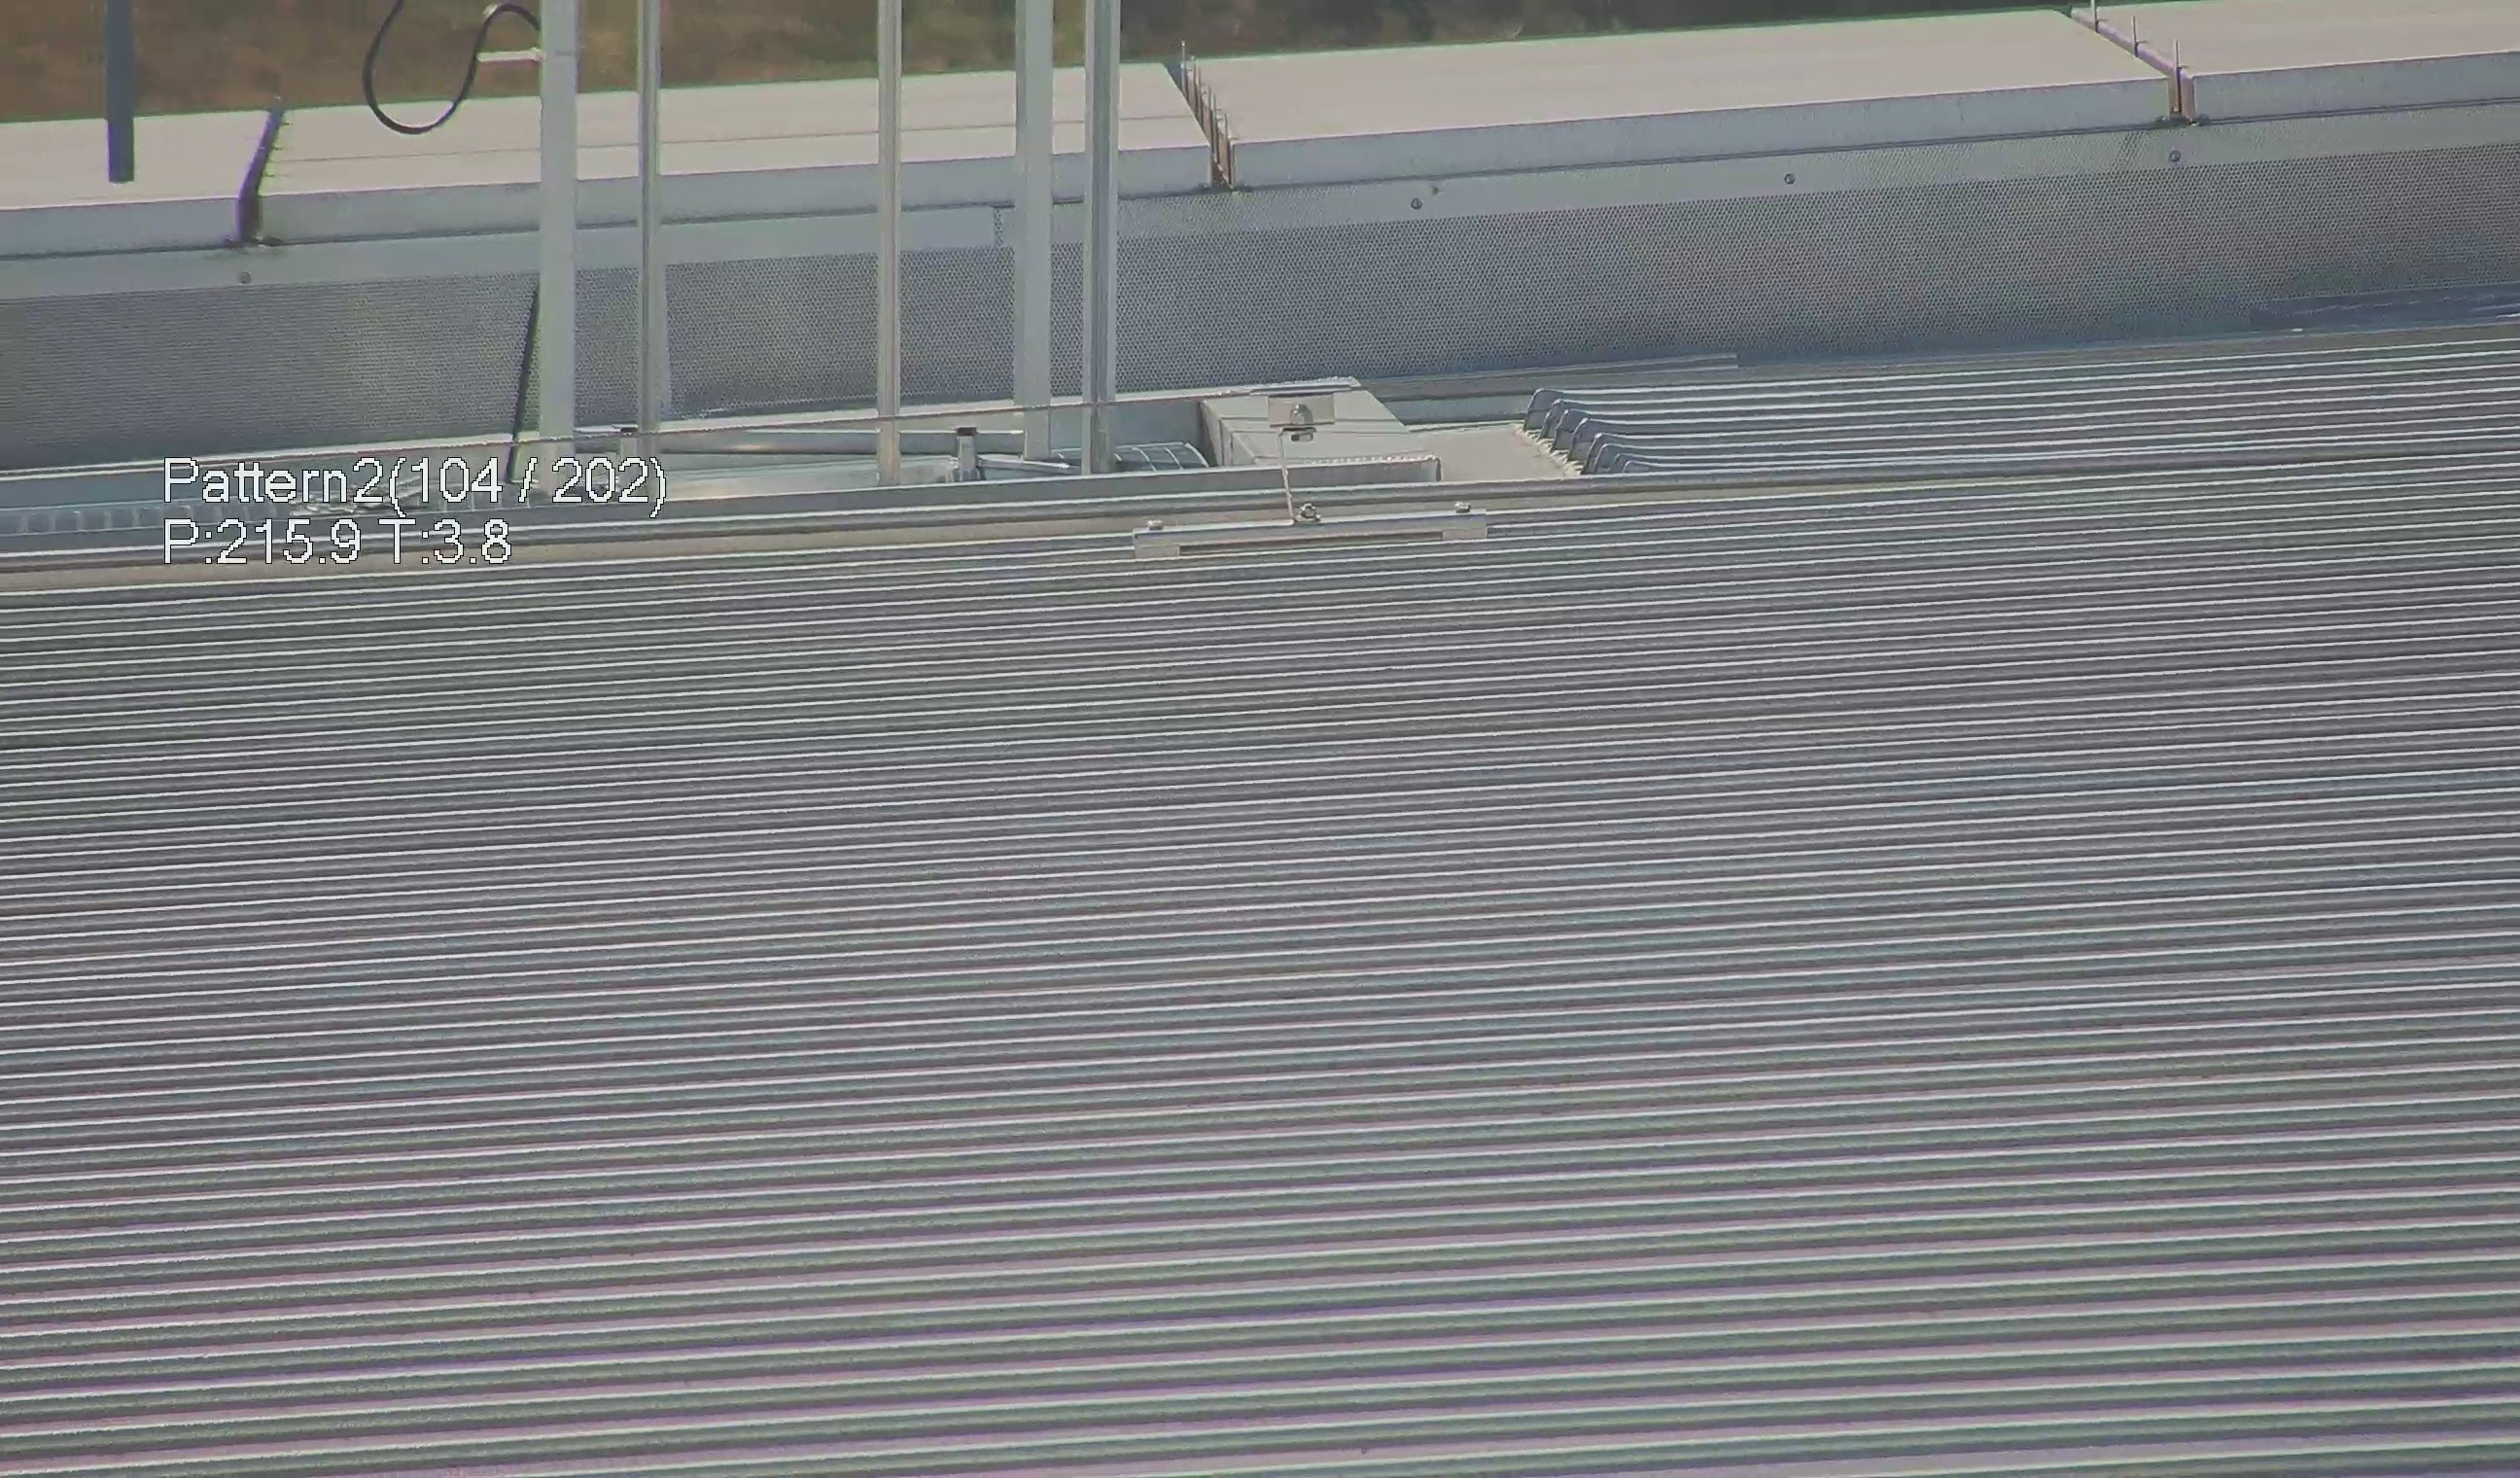Other: (339, 0, 542, 135)
